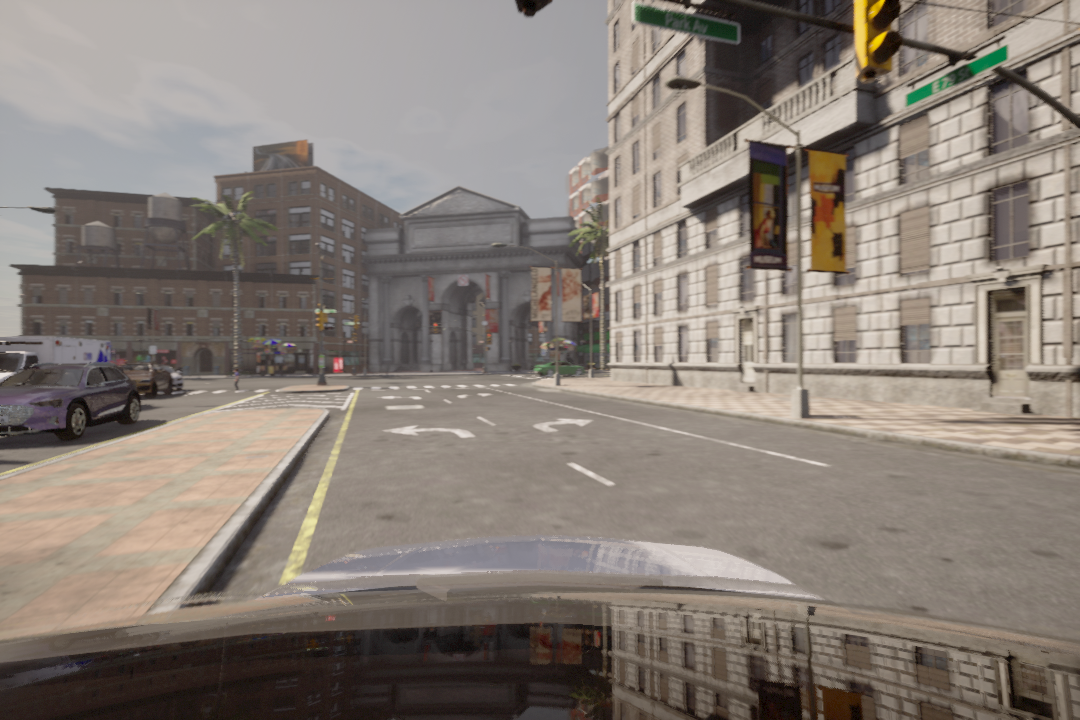RoadSign_left: (386, 423, 481, 447)
RoadSign_right: (532, 415, 600, 437)
